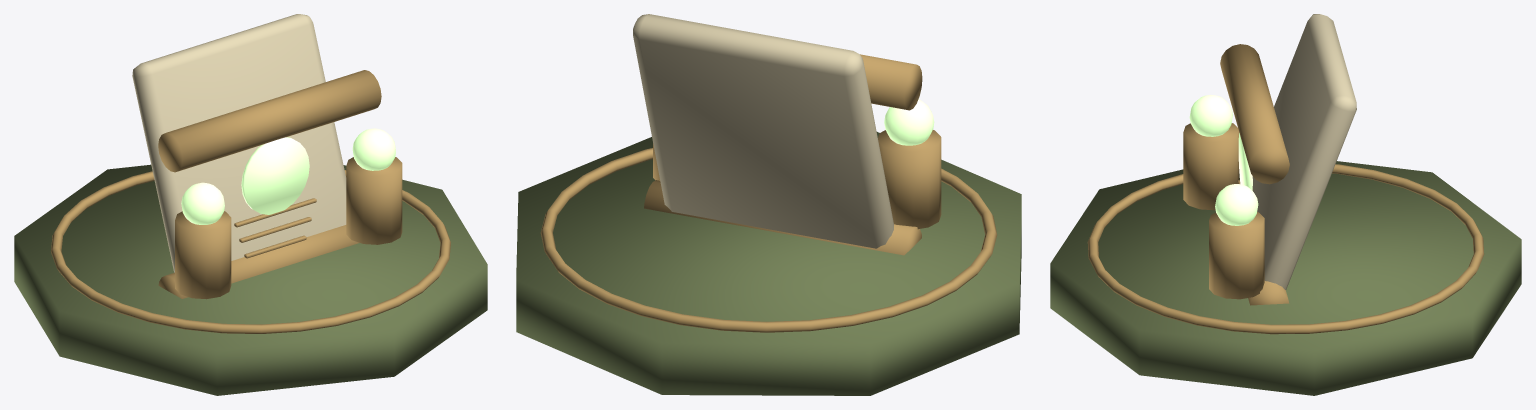
3 renders of one model, left to right at view 1: azimuth 30°, elevation 25°; view 2: azimuth 150°, elevation 25°; view 3: azimuth 270°, elevation 25°, orthographic. The views are drawn at different scales.
Parts seen in each view (by area): view 1: Hexagonal plinth, Parchment, Binding.001, Inlaid rim, Tactical token.001, Tactical token, 3B embossed seal, Binding, Tactical head, Tactical head.001; view 2: Hexagonal plinth, Parchment, Inlaid rim, Tactical token, Binding.001, Binding, Tactical head; view 3: Hexagonal plinth, Parchment, Inlaid rim, Binding.001, Tactical token.001, Tactical token, Tactical head, Tactical head.001, Binding, 3B embossed seal.
Boxes of the visible parts, x1,y1,x2,y2 form: Hexagonal plinth: (14,164,487,395); Parchment: (132,14,346,272); Binding.001: (158,70,381,172); Inlaid rim: (51,170,450,333); Tactical token.001: (346,157,402,244); Tactical token: (175,211,231,299); 3B embossed seal: (241,137,309,214); Binding: (158,225,359,298); Tactical head: (181,182,224,224); Tactical head.001: (352,128,395,170); Hexagonal plinth: (516,132,1021,395); Parchment: (633,14,893,248); Inlaid rim: (540,148,997,332); Tactical token: (878,130,941,229); Binding.001: (860,54,922,110); Binding: (644,180,921,255); Tactical head: (884,99,934,145); Hexagonal plinth: (1050,161,1521,395); Parchment: (1252,14,1356,289); Inlaid rim: (1087,164,1484,334); Binding.001: (1220,44,1289,184); Tactical token.001: (1209,212,1264,299); Tactical token: (1183,123,1239,210); Tactical head: (1189,95,1232,136); Tactical head.001: (1215,184,1258,225); Binding: (1248,281,1289,305); 3B embossed seal: (1238,133,1252,190).
Bounding box in the file's own units: 1.51 × 0.8899 × 1.51.
